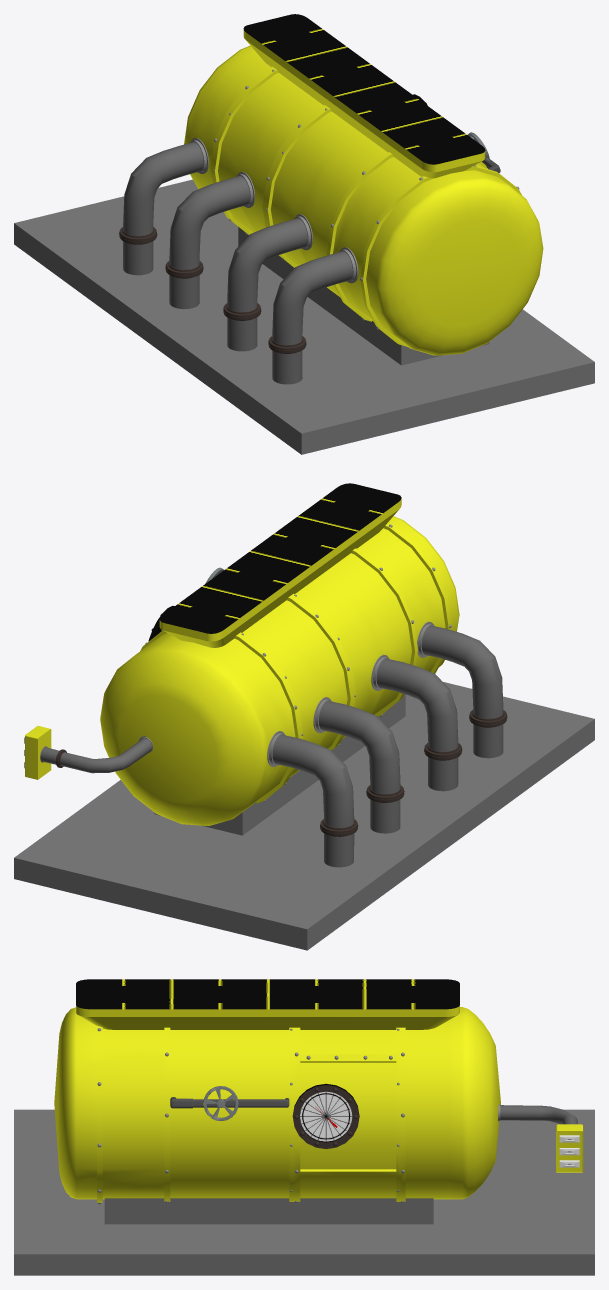
Rendered from Yellow.fbx.
The picture shows the model from 3 angles, top to bottom: view 1: azimuth 30°, elevation 25°; view 2: azimuth 150°, elevation 25°; view 3: azimuth 270°, elevation 25°; orthographic projection.
Visible parts, largest first — view 1: pCylinder21, pCube183, pCube271, pCube195, pCube204, pCube206, pCube202, pCube200; view 2: pCube183, pCylinder21, pCube271, pCube206, pCube202, pCube204, pCube195, pCube200, pCube510, pCube516; view 3: pCylinder21, pCube183, pCube271, pCube200, pCube182, pCube510, pCube516, pCube159, pCylinder22.
Part boxes in pixels (bbox=[...]): pCylinder21: bbox=[184, 45, 543, 355]; pCube183: bbox=[14, 179, 594, 454]; pCube271: bbox=[243, 14, 485, 178]; pCube195: bbox=[123, 142, 203, 275]; pCube204: bbox=[227, 218, 307, 351]; pCube206: bbox=[272, 251, 352, 384]; pCube202: bbox=[169, 176, 249, 309]; pCube200: bbox=[238, 227, 489, 365]; pCube183: bbox=[14, 682, 594, 950]; pCylinder21: bbox=[100, 516, 459, 825]; pCube271: bbox=[159, 483, 401, 647]; pCube206: bbox=[421, 625, 503, 758]; pCube202: bbox=[318, 701, 400, 833]; pCube204: bbox=[376, 658, 458, 791]; pCube195: bbox=[272, 735, 354, 867]; pCube200: bbox=[154, 694, 405, 835]; pCube510: bbox=[40, 736, 153, 773]; pCube516: bbox=[25, 726, 51, 779]; pCylinder21: bbox=[54, 1007, 500, 1202]; pCube183: bbox=[14, 1109, 594, 1275]; pCube271: bbox=[76, 979, 459, 1029]; pCube200: bbox=[104, 1198, 433, 1224]; pCube182: bbox=[292, 1083, 359, 1148]; pCube510: bbox=[498, 1104, 577, 1124]; pCube516: bbox=[556, 1124, 583, 1172]; pCube159: bbox=[170, 1097, 289, 1108]; pCylinder22: bbox=[203, 1086, 238, 1120].
Size of the model in its own units: 86.86 by 64.35 by 147.
4 materials, 3 textured.
